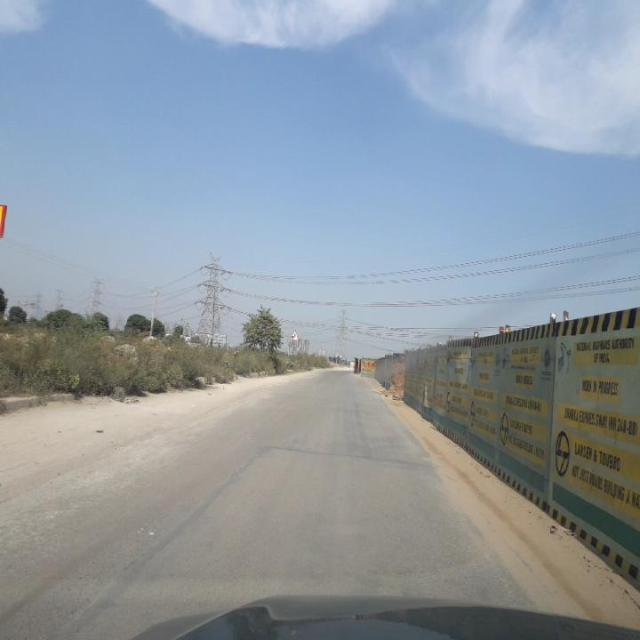D00: (74, 464, 245, 616)
